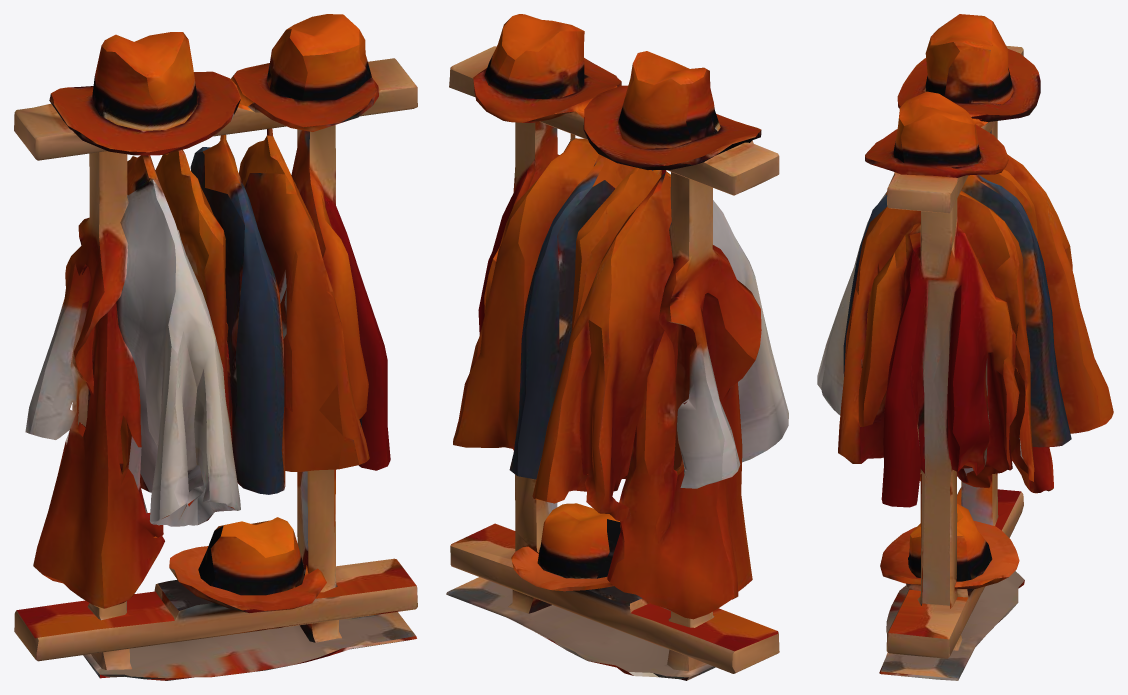
File: coat_rack.glb
3 renders of one model, left to right at view 1: azimuth 30°, elevation 25°; view 2: azimuth 150°, elevation 25°; view 3: azimuth 270°, elevation 25°, orthographic. The views are drawn at different scales.
Visible parts, largest first — view 1: coat_rack; view 2: coat_rack; view 3: coat_rack.
Boxes of the visible parts, x1,y1,x2,y2 form: coat_rack: (14, 14, 417, 680); coat_rack: (446, 14, 788, 680); coat_rack: (817, 14, 1113, 680).
Size of the model in its own units: 0.5953 by 1 by 0.4873.
Materials: 1 (1 with a texture image).
